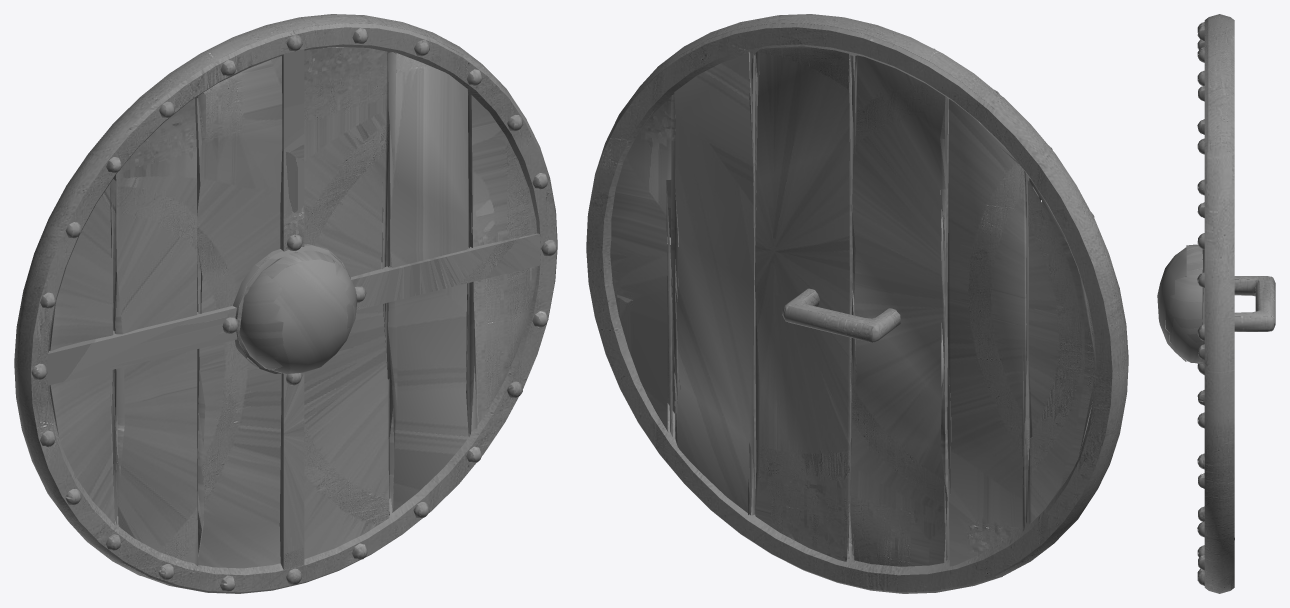
Rendered from scudo_base.fbx.
3 renders of one model, left to right at view 1: azimuth 30°, elevation 25°; view 2: azimuth 150°, elevation 25°; view 3: azimuth 270°, elevation 25°, orthographic. The views are drawn at different scales.
Parts seen in each view (by area): view 1: polySurface33, polySurface89, pCube4; view 2: polySurface33, polySurface89; view 3: polySurface89, pCube4.
Part boxes in pixels (x1,y1,x2,y2): polySurface33: (49,47,537,568); polySurface89: (14,14,557,593); pCube4: (47,49,540,569); polySurface33: (610,46,1094,566); polySurface89: (586,14,1128,593); polySurface89: (1197,14,1275,593); pCube4: (1157,244,1204,366).
Bounding box in the file's own units: 2993 × 2989 × 611.
3 materials, 3 textured.
